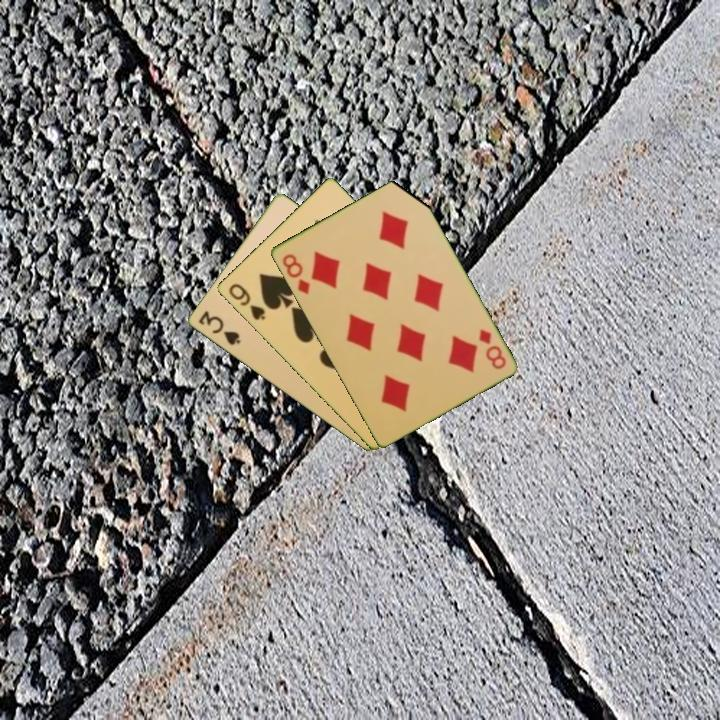3s: (194, 307, 243, 348)
8d: (278, 250, 313, 297), (475, 325, 509, 372)
9s: (225, 280, 268, 323)
